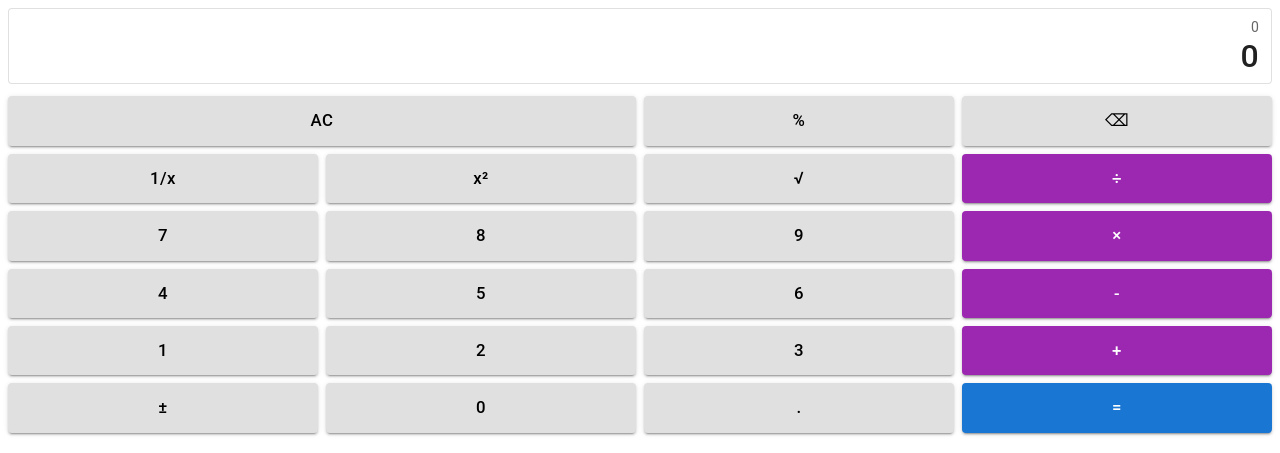
<Calculator /> (MUI skin) › turns the keyboard fully off with keyboard={false} (clicks still work)
The width and height of the screenshot is (1280, 453).
Press 4 in the element named "calculator"
Expected: the text with test id "calculator-display" reads "0", left=1240, top=37, right=1259, bottom=75
# On-screen buttons still work by click.
Click the button with test id "calc-key-4".
click(163, 293)  # box left=8, top=269, right=318, bottom=318
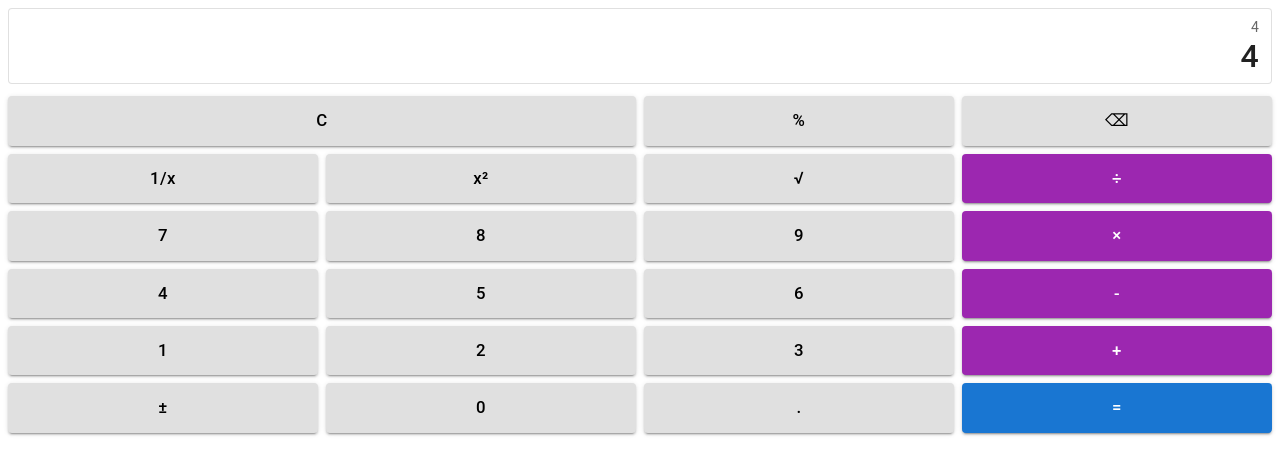
Result: the text with test id "calculator-display" reads "4" at left=1240, top=37, right=1259, bottom=75
